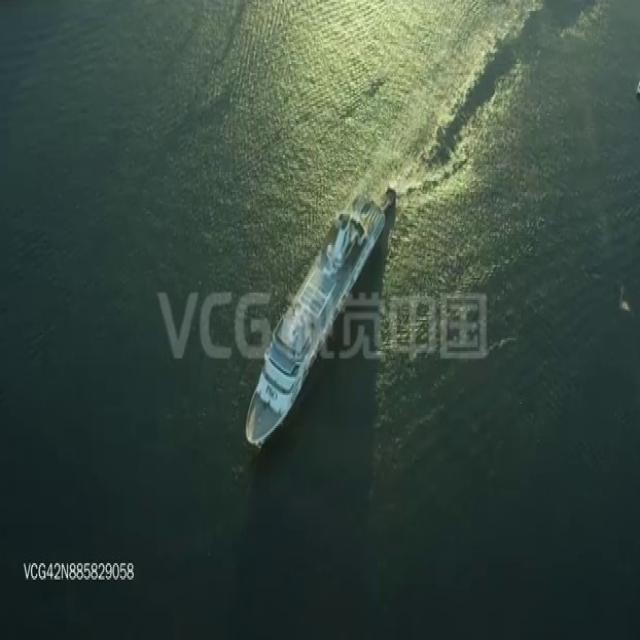passenger ship: (239, 185, 387, 448)
